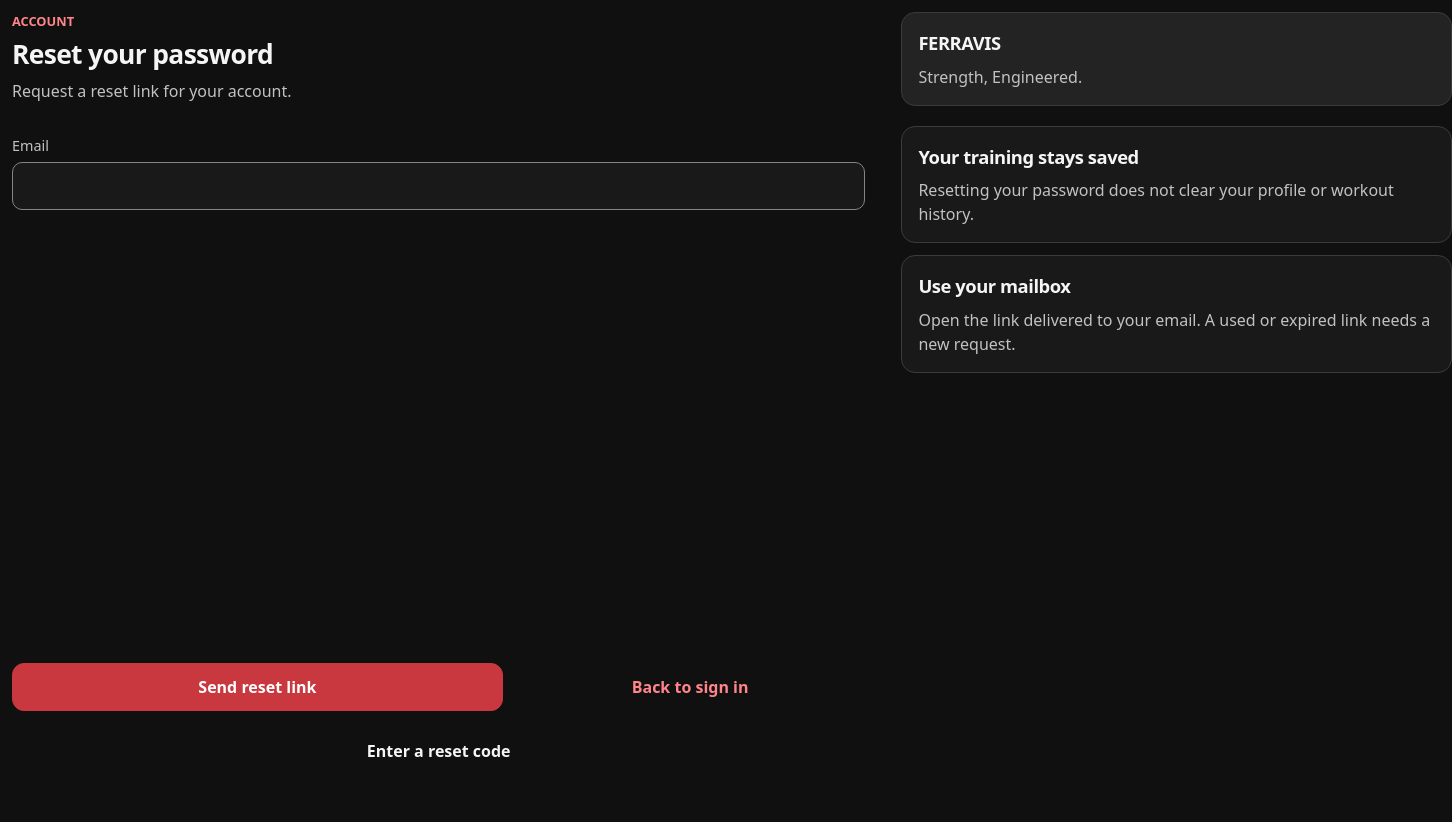
Test: request acknowledges generically and cannot autofill an HTTP credential
The image size is (1452, 822).
Type "synthetic@example.com" into the field labelled "Email" at (439, 186), box [12,162,865,210]
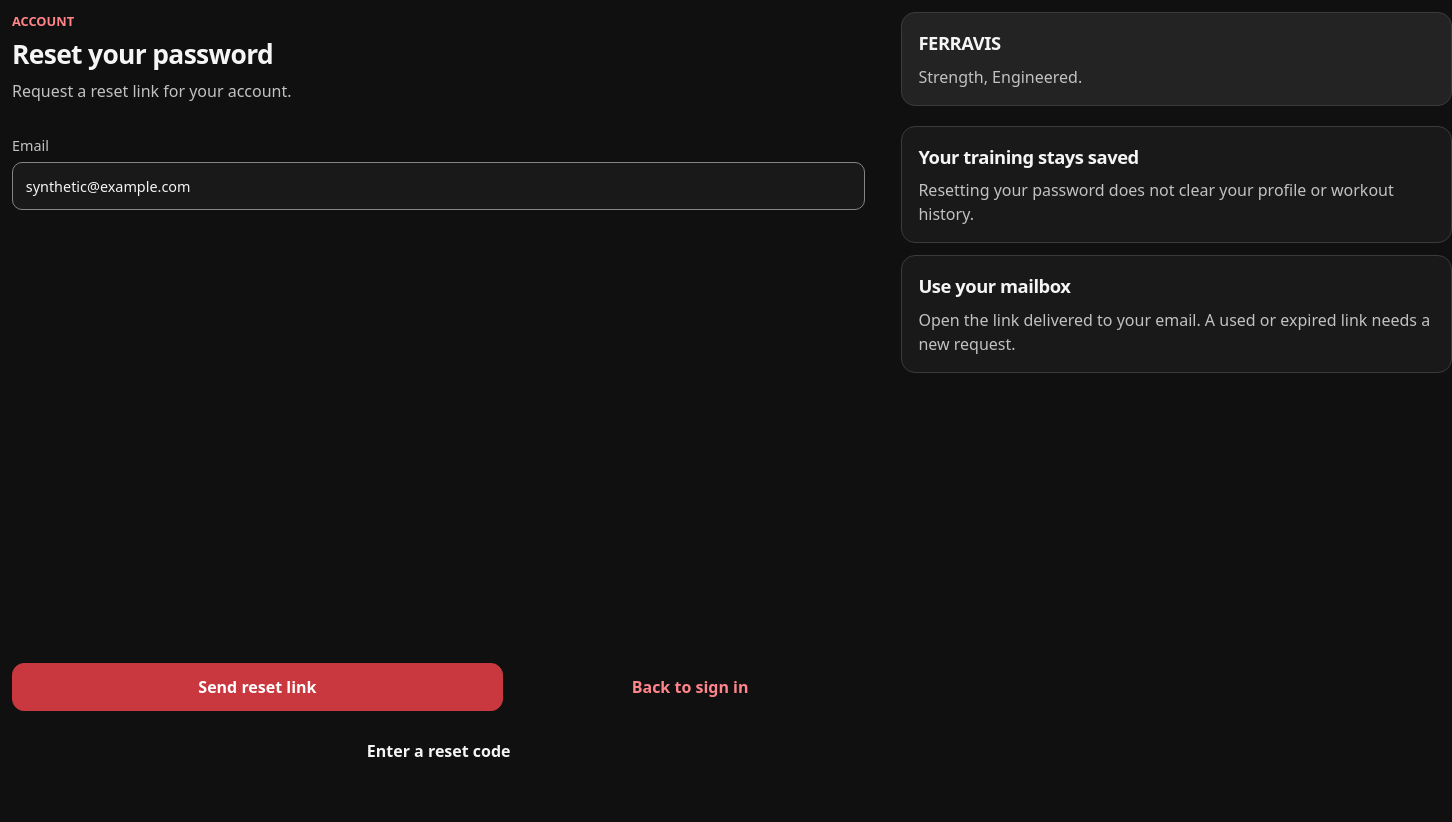
Click the button "Send reset link" at (257, 687), box [12,663,503,711]
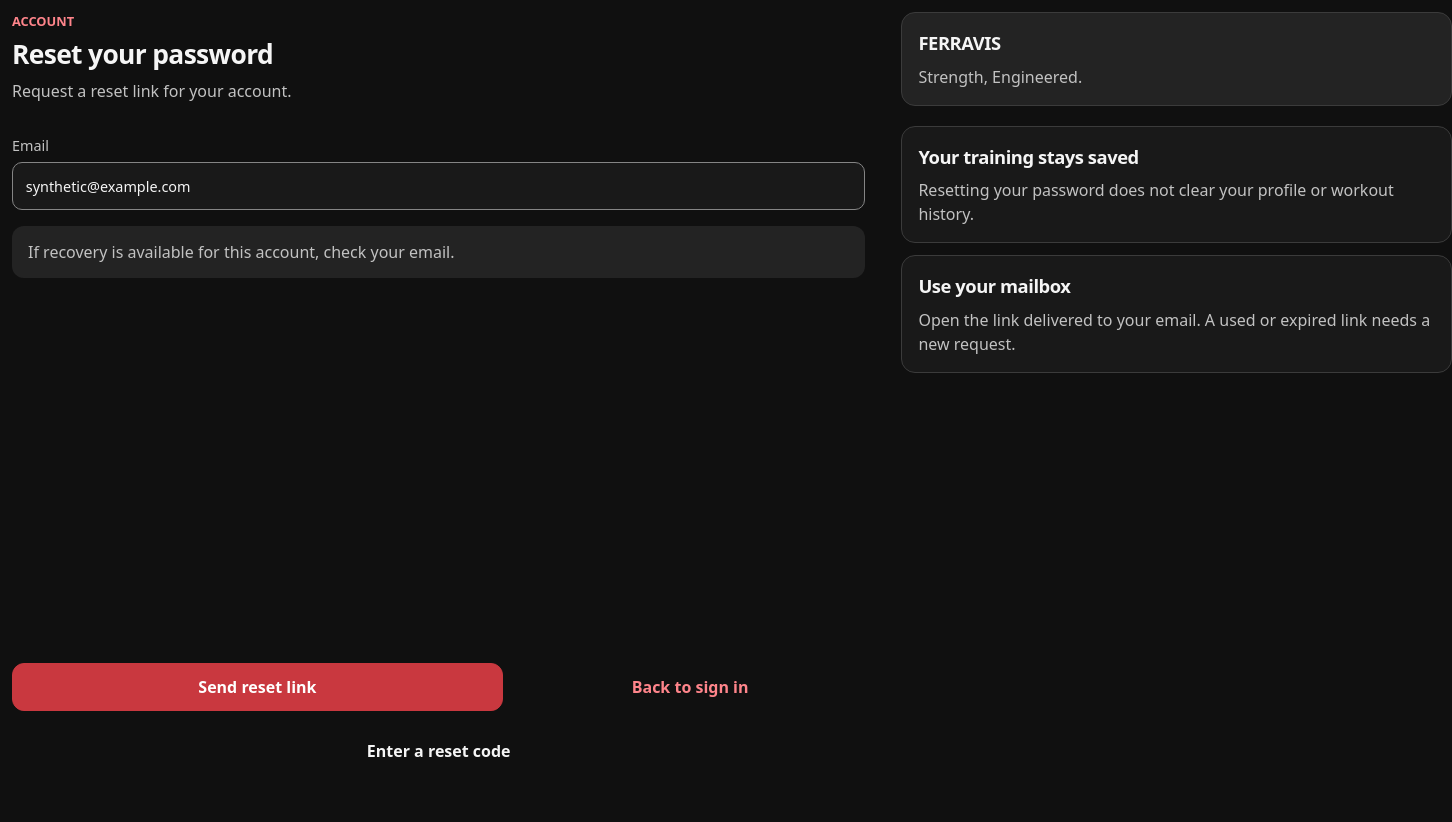
Expected: the text "If recovery is available for this account, check your email." is shown, [12,226,865,278]
